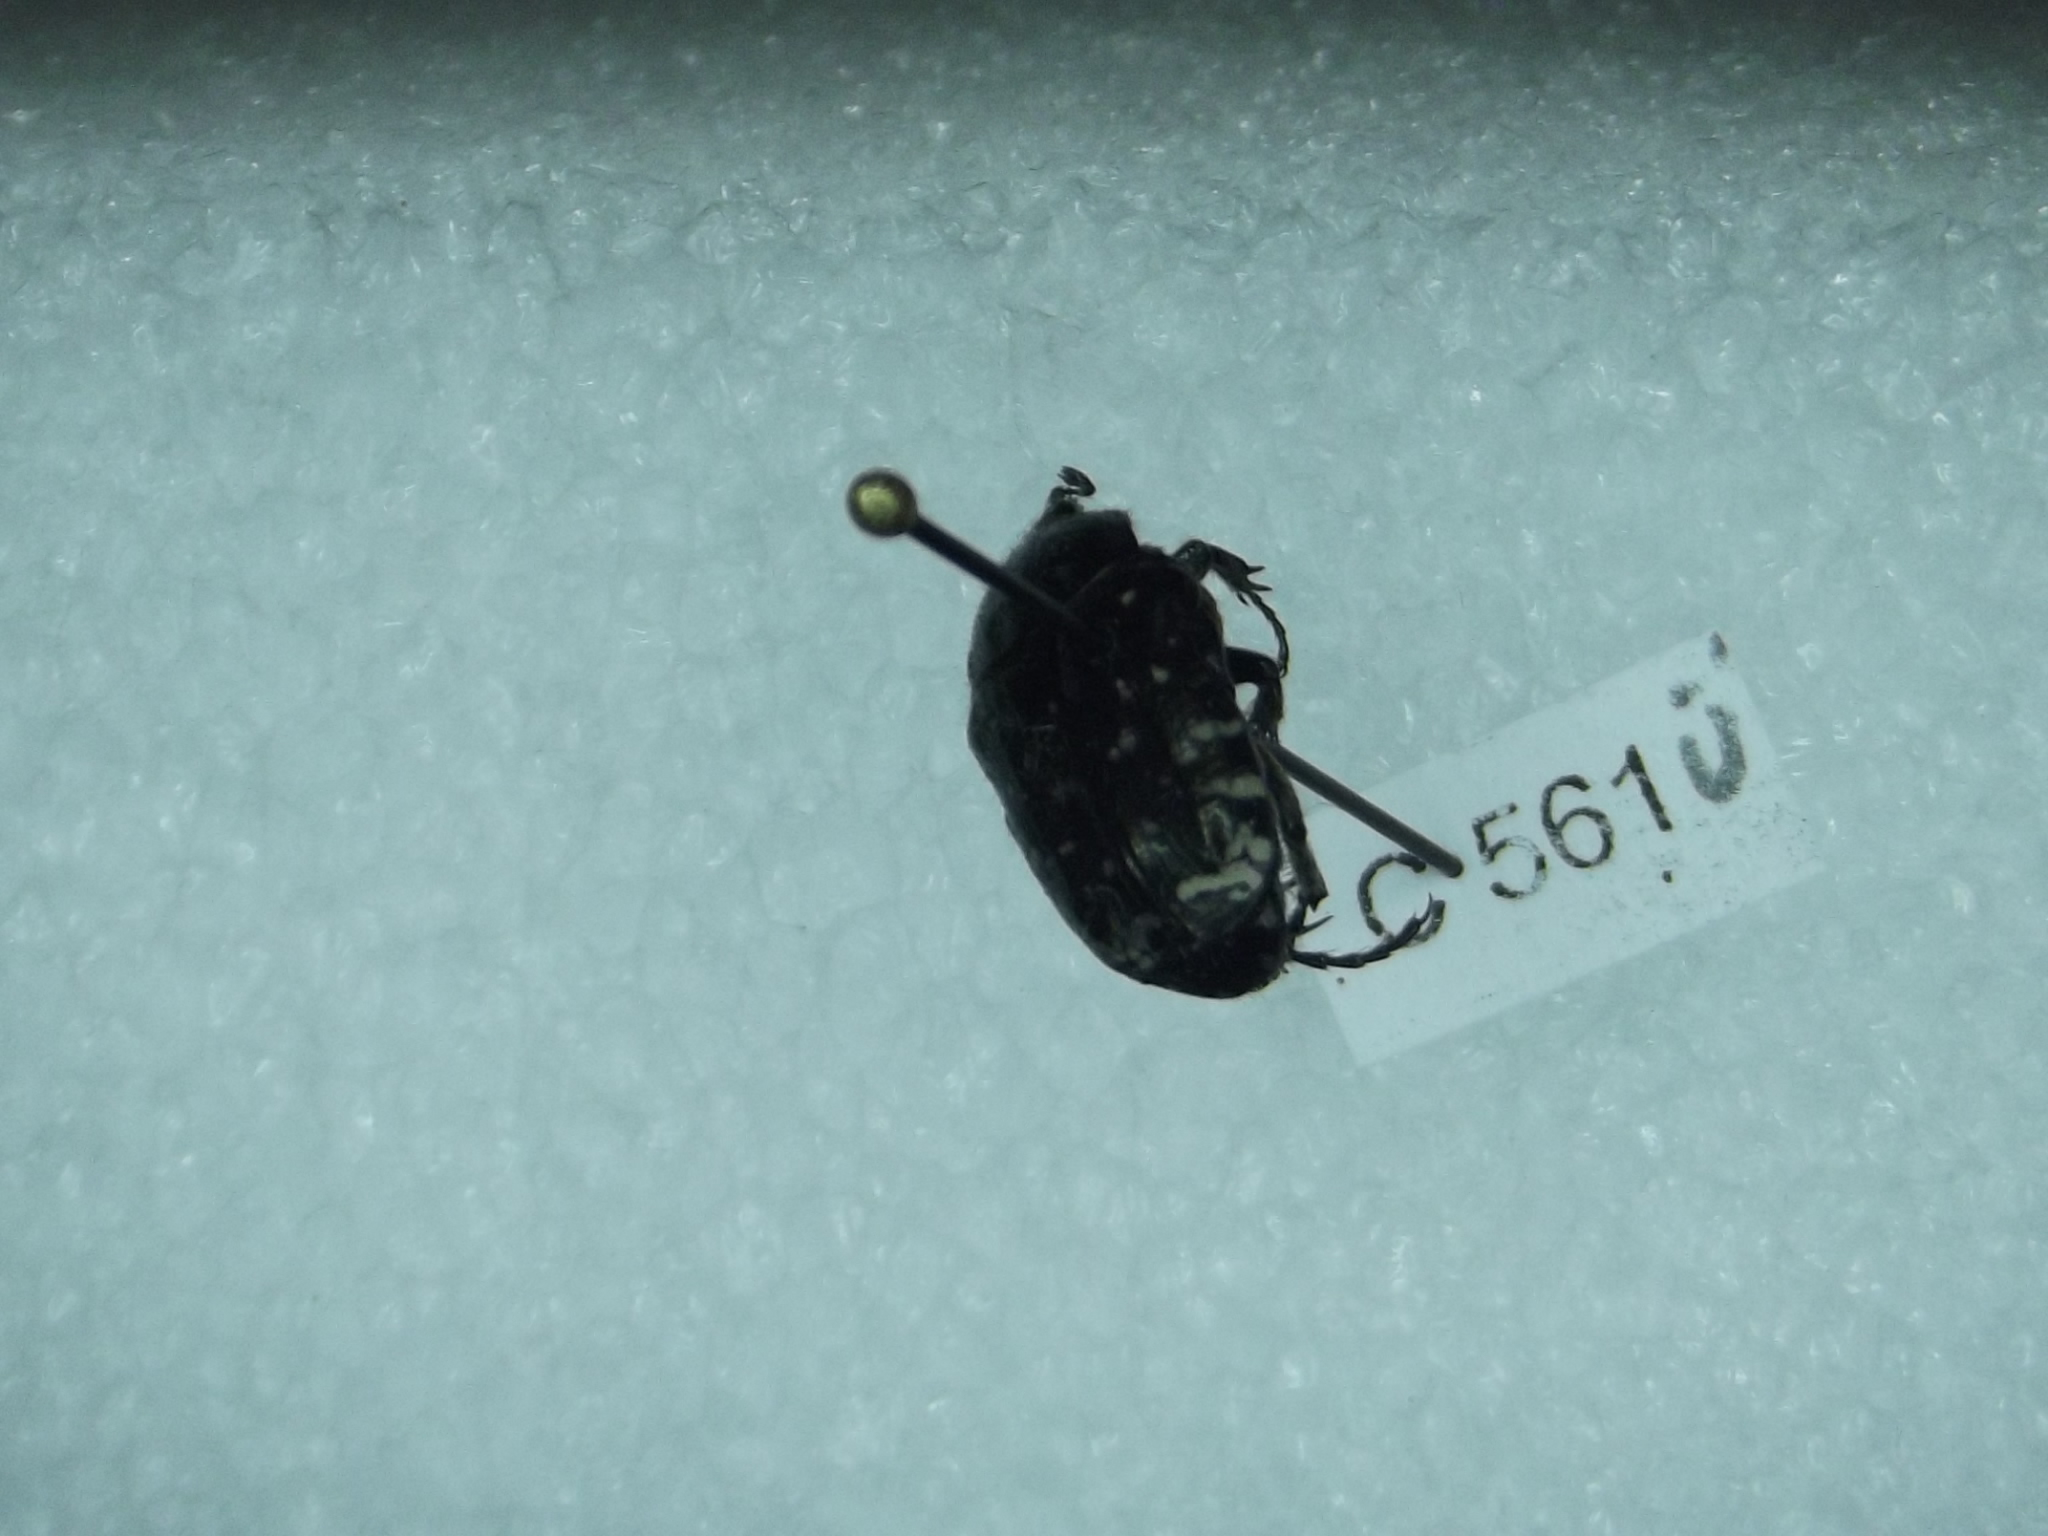Oxythyrea_albopicta: (950, 423, 1471, 1020)
